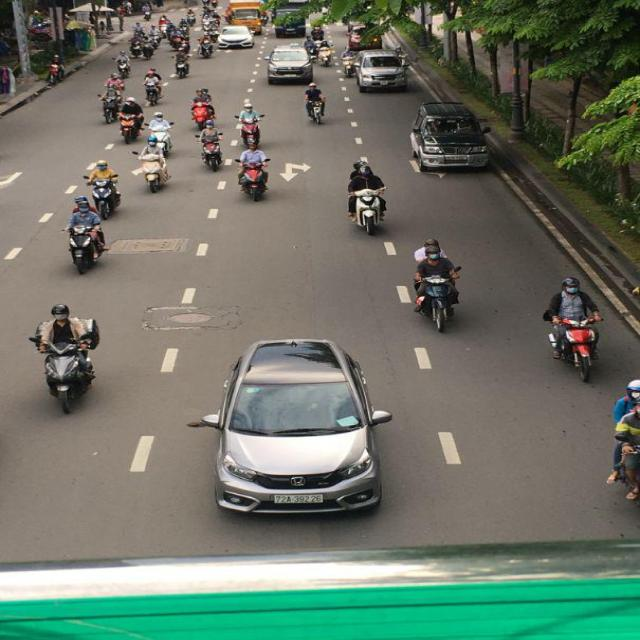car: (200, 342, 390, 518), (410, 102, 491, 174), (354, 54, 409, 93), (265, 48, 313, 86), (217, 24, 256, 50)
motorcycle: (550, 302, 604, 382), (42, 343, 98, 415), (416, 271, 460, 332), (68, 212, 108, 271), (348, 185, 388, 237), (137, 143, 173, 192), (238, 156, 271, 202), (86, 176, 122, 218), (201, 140, 223, 172), (144, 79, 162, 106), (102, 92, 118, 122)
truck: (228, 0, 267, 32)
